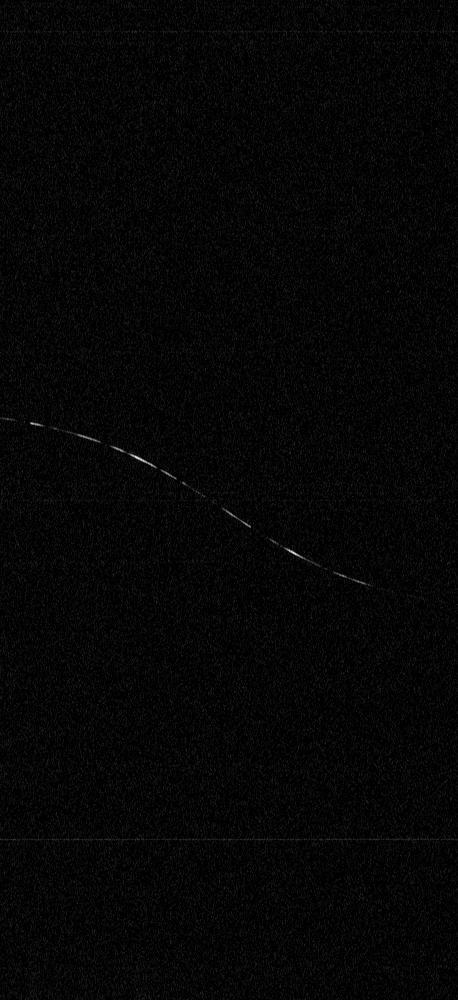signal: (0, 0, 457, 999)
